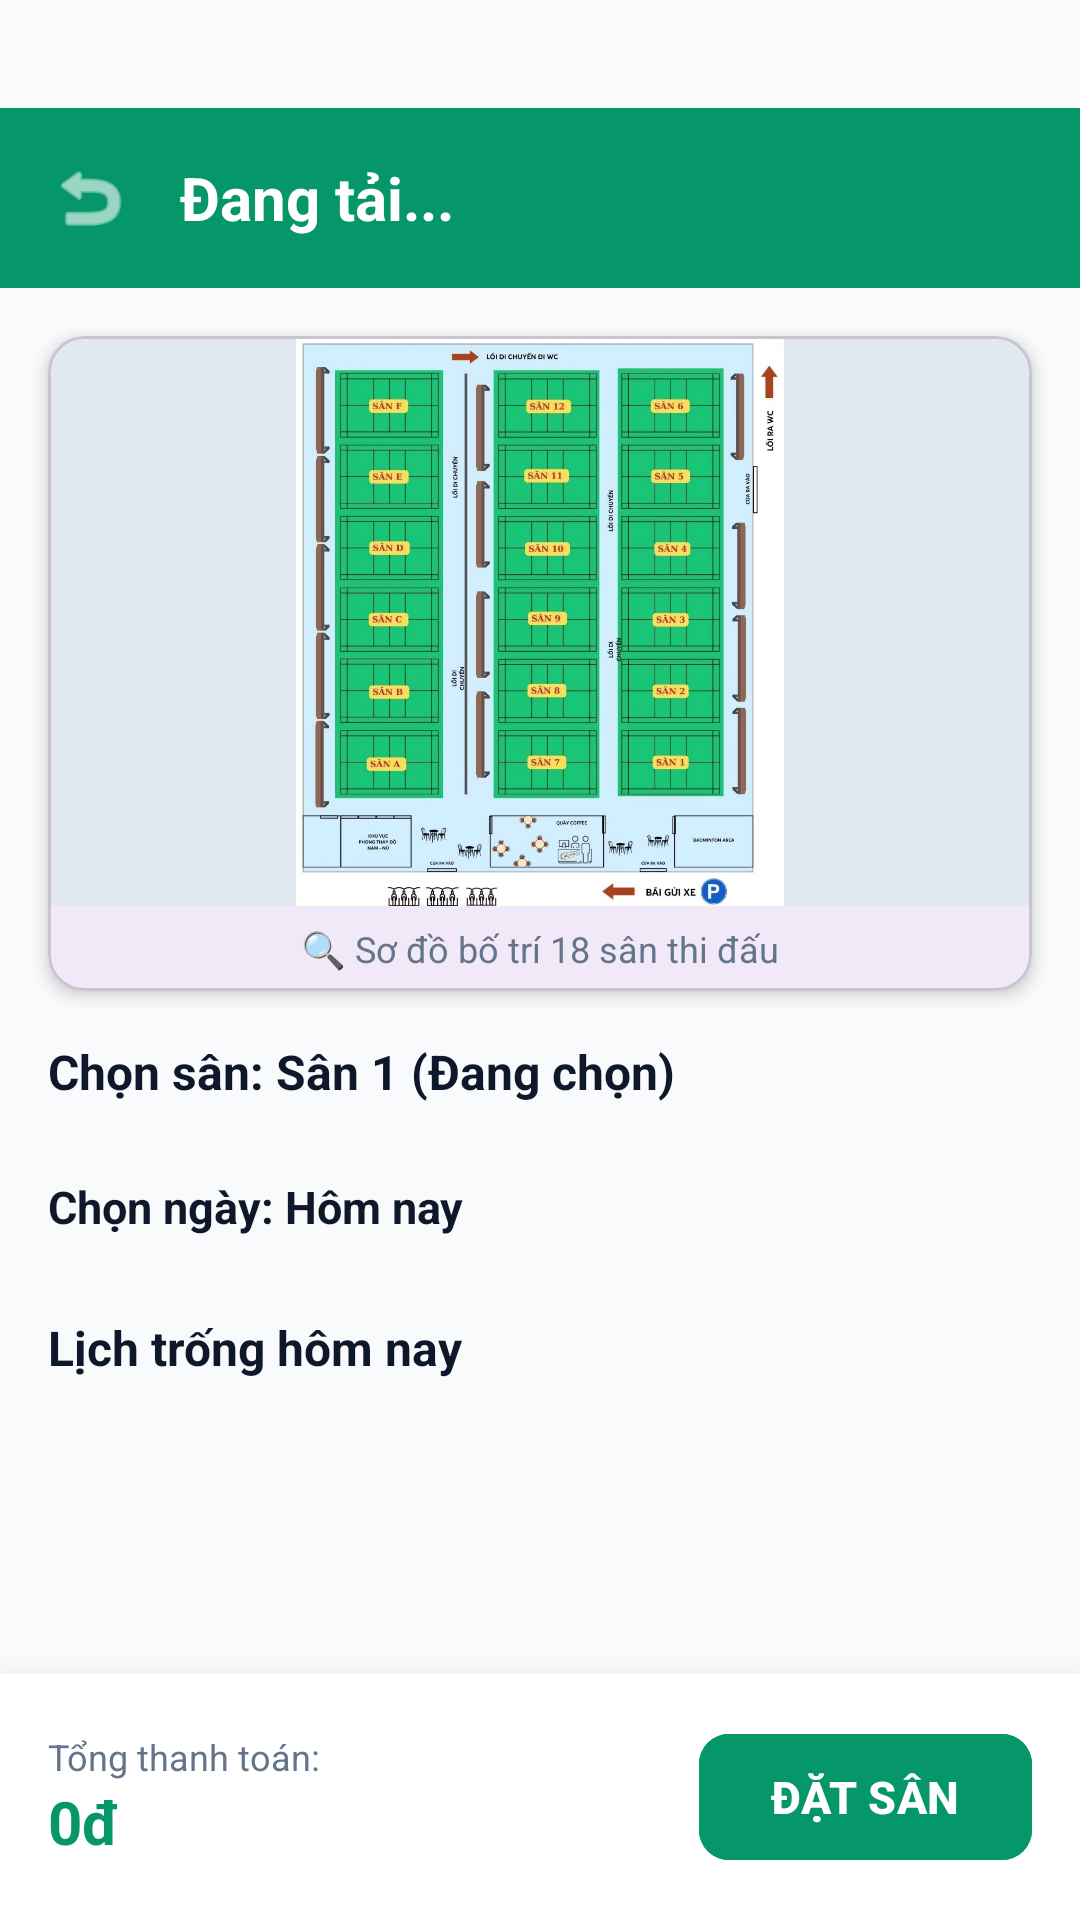

Point at icon controls on the screen. Image size 1080 × 1920, points as (x=x, y=y).
revert: (x=91, y=198)
